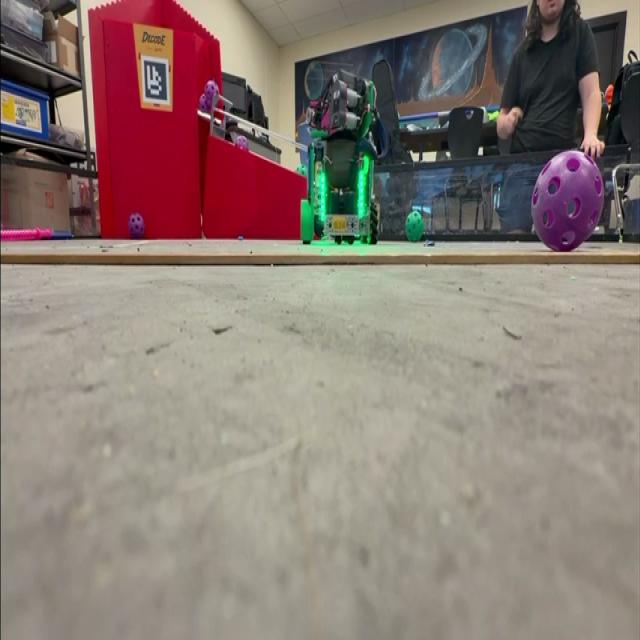artifact_green: (406, 211, 423, 242), (297, 164, 307, 175)
artifact_purple: (533, 151, 604, 251), (129, 212, 145, 238), (205, 80, 219, 103), (199, 94, 210, 111), (236, 135, 248, 150), (205, 96, 212, 113)
